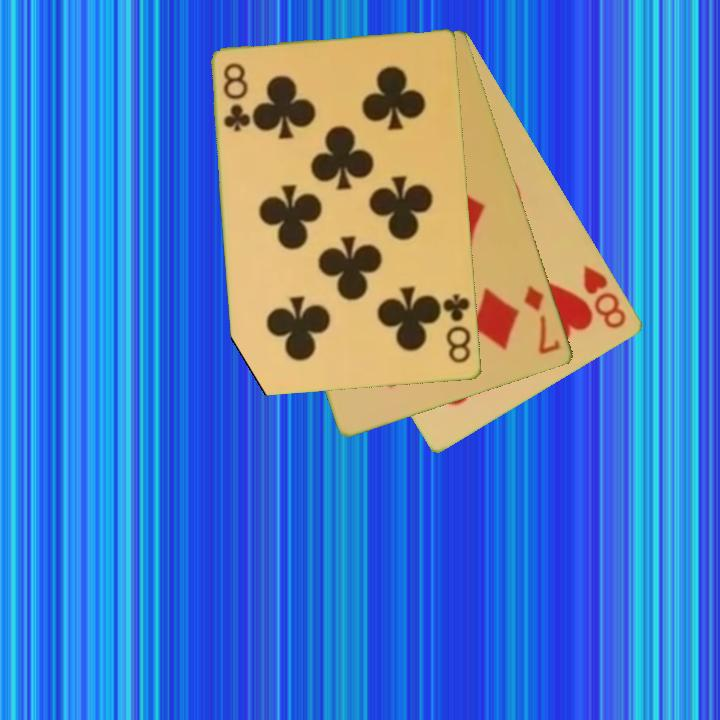7d: (520, 282, 564, 358)
8c: (440, 290, 474, 367), (220, 60, 253, 135)
8h: (580, 262, 630, 332)
